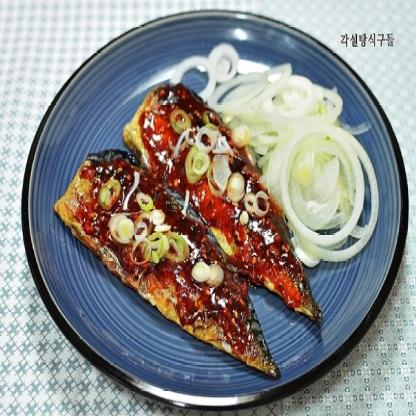Peixe: (41, 72, 328, 378)
